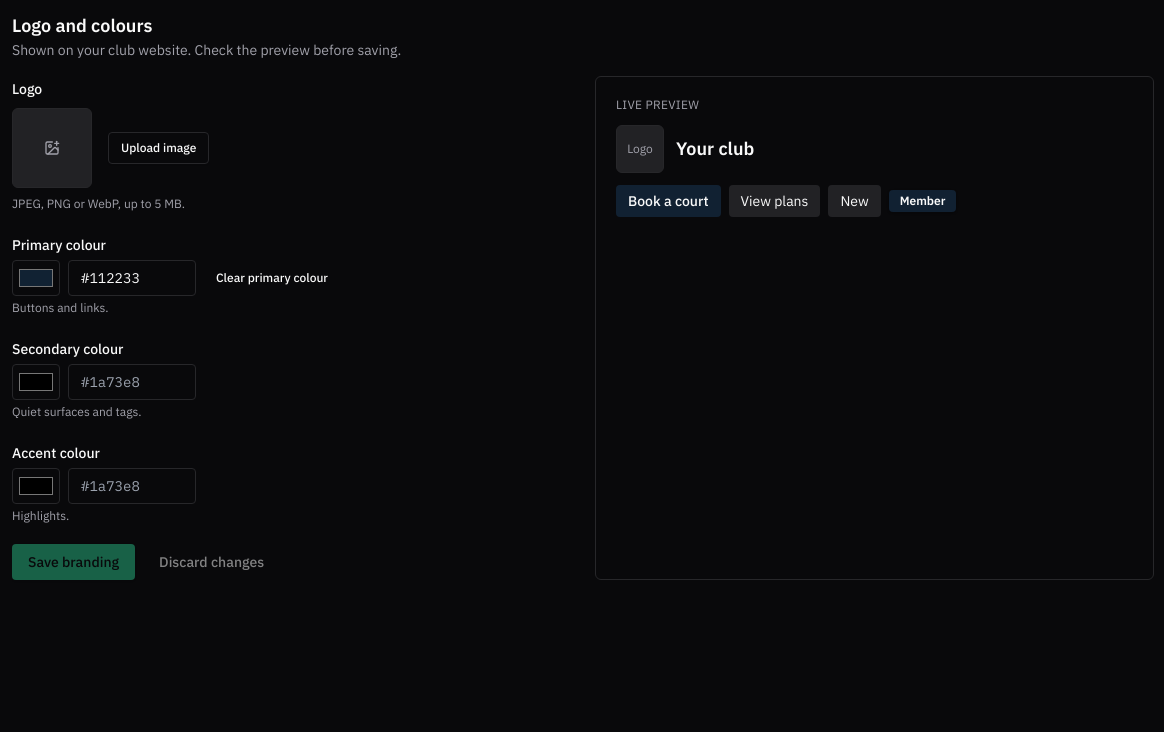
it: branding editor › discard returns to the saved values
Replace the text in the field labelled "Primary colour" with "#445566" at (132, 278), box [68,260,196,296]
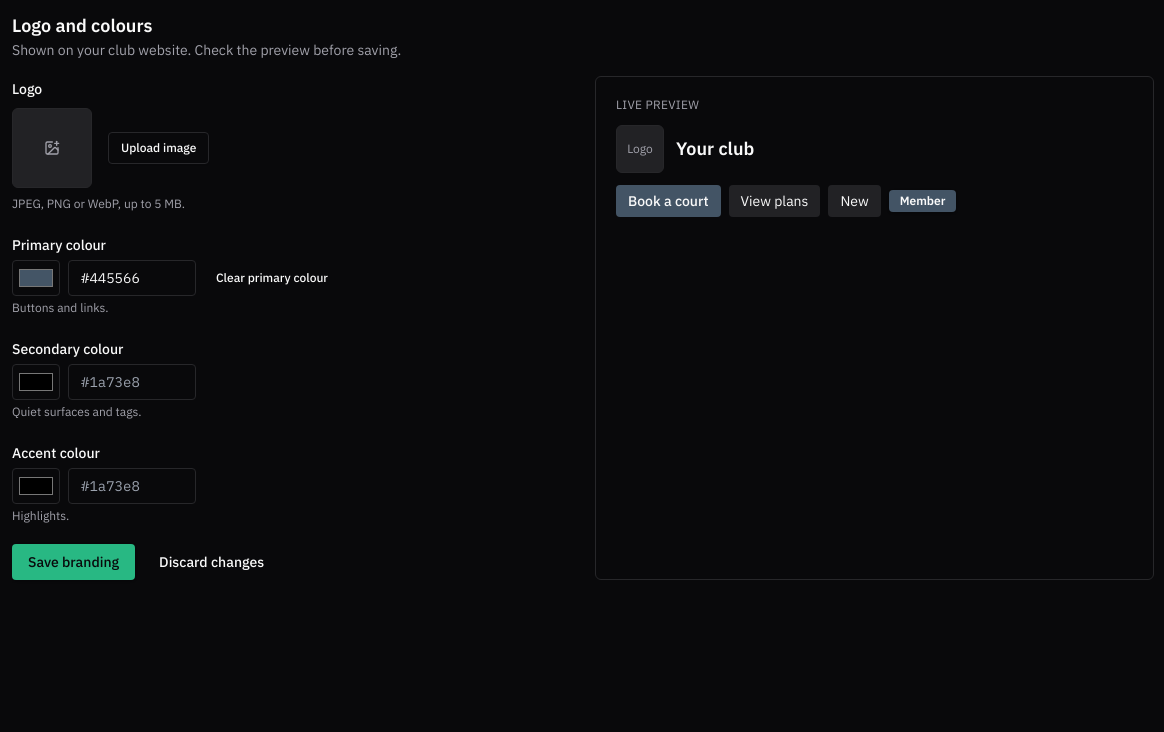
Click the button "Discard changes" at (212, 562), box [143,544,280,580]
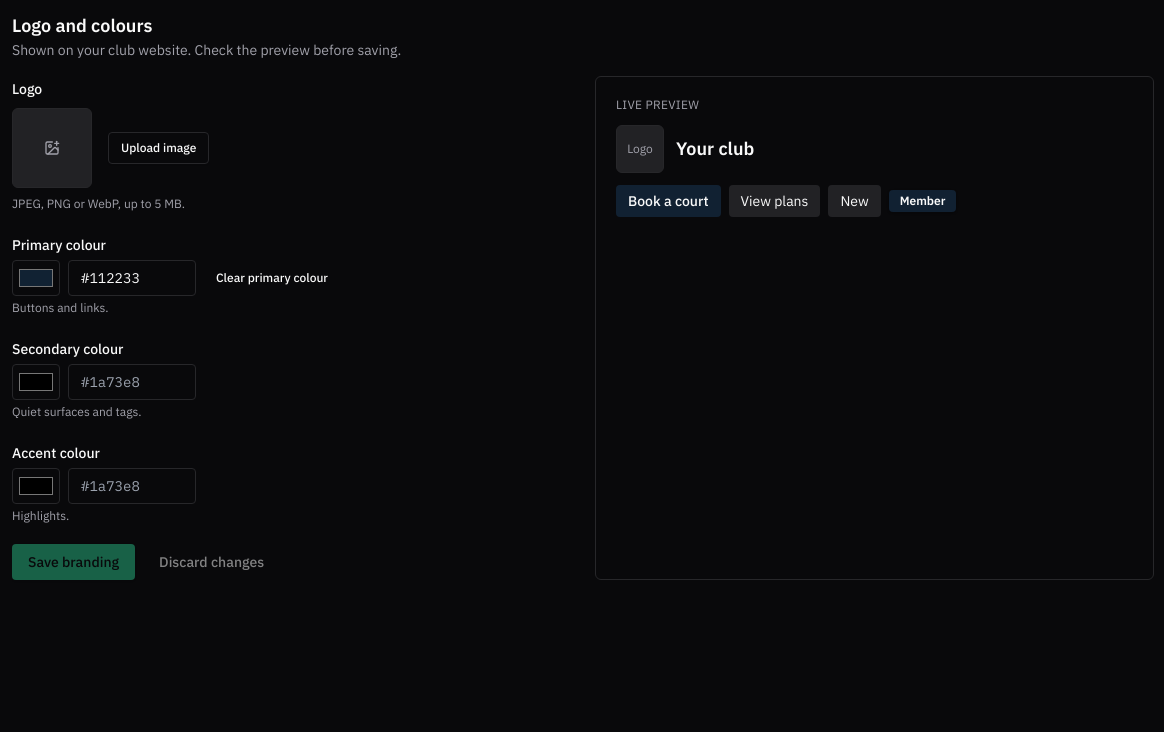
Now the field labelled "Primary colour" holds "#112233", box [68,260,196,296]
Now the button "Save branding" is disabled, box [12,544,135,580]
